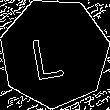L_N: (35, 25, 74, 81)
